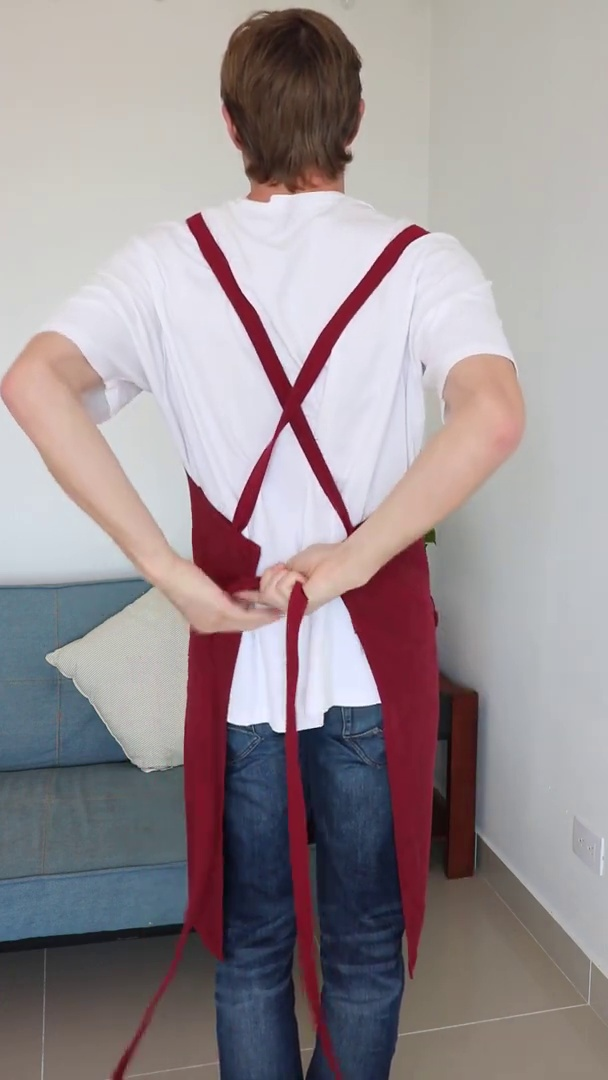Apron: (163, 200, 430, 717)
No_Glove: (141, 551, 267, 640), (264, 541, 371, 620)
No_Hairnet: (210, 10, 378, 183)
